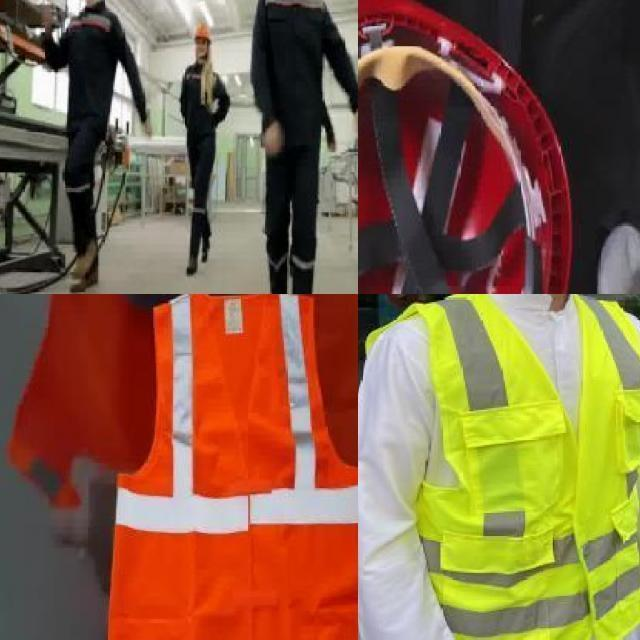apron: (540, 219, 640, 294)
